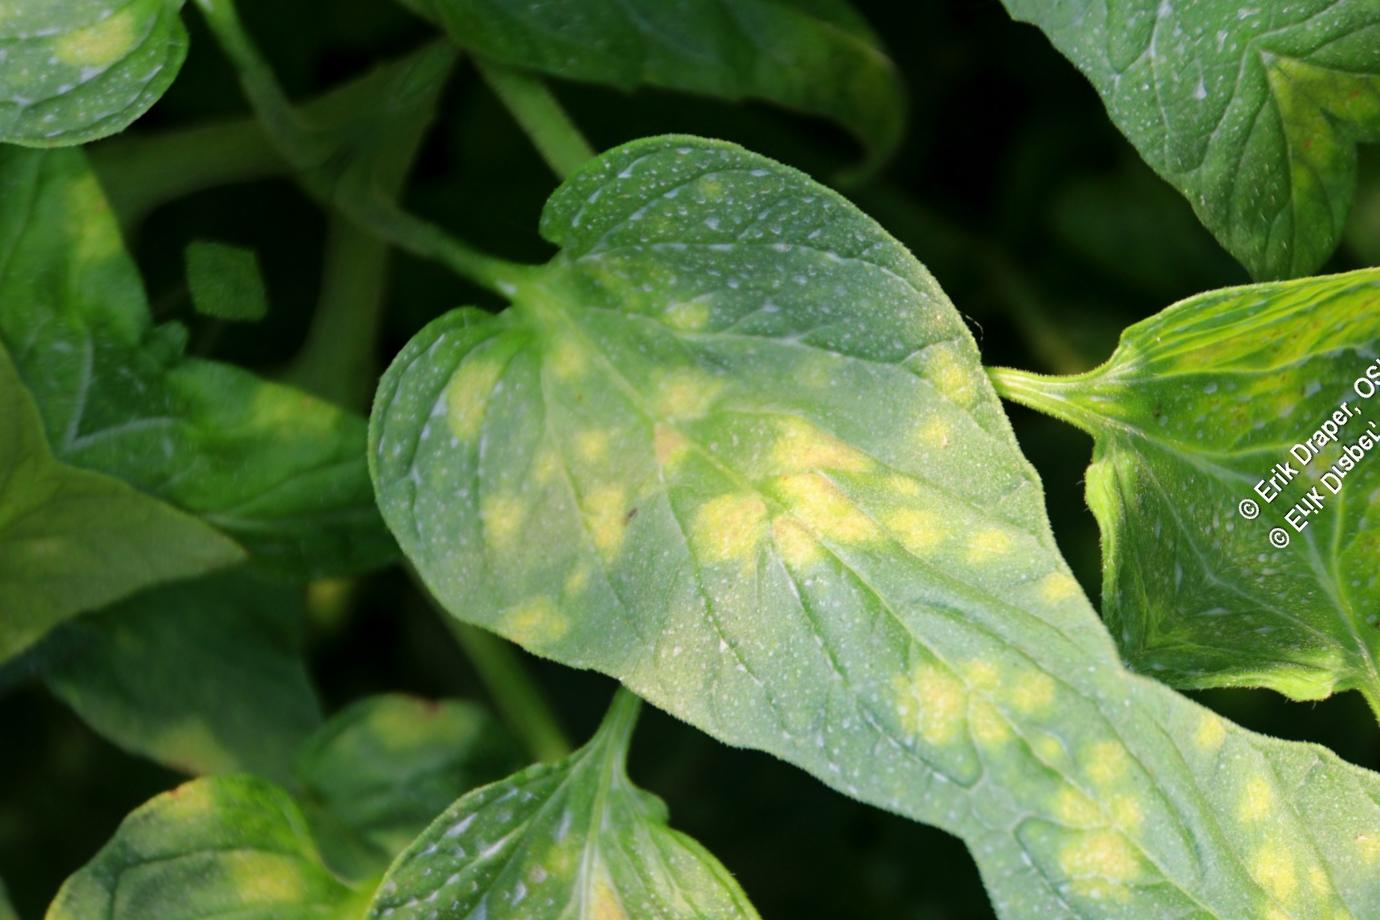Tomato mold leaf: (265, 32, 1222, 920)
